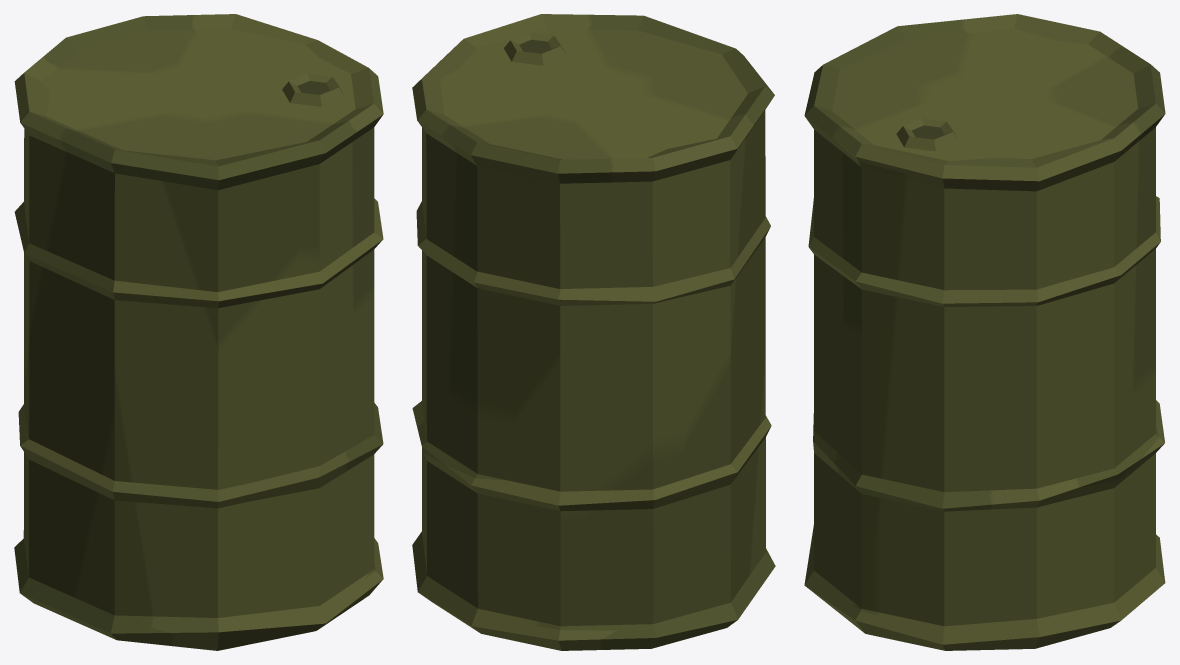
File: SM_Prop_Barrel_01.glb
The picture shows the model from 3 angles, left to right: view 1: azimuth 30°, elevation 25°; view 2: azimuth 150°, elevation 25°; view 3: azimuth 270°, elevation 25°; orthographic projection.
Visible parts, largest first — view 1: SM_Prop_Barrel_01; view 2: SM_Prop_Barrel_01; view 3: SM_Prop_Barrel_01.
Boxes of the visible parts, x1,y1,x2,y2 form: SM_Prop_Barrel_01: (14, 14, 383, 650); SM_Prop_Barrel_01: (412, 14, 775, 650); SM_Prop_Barrel_01: (804, 14, 1165, 650).
Size of the model in its own units: 0.7111 by 1.05 by 0.6963.
1 material, 1 textured.
